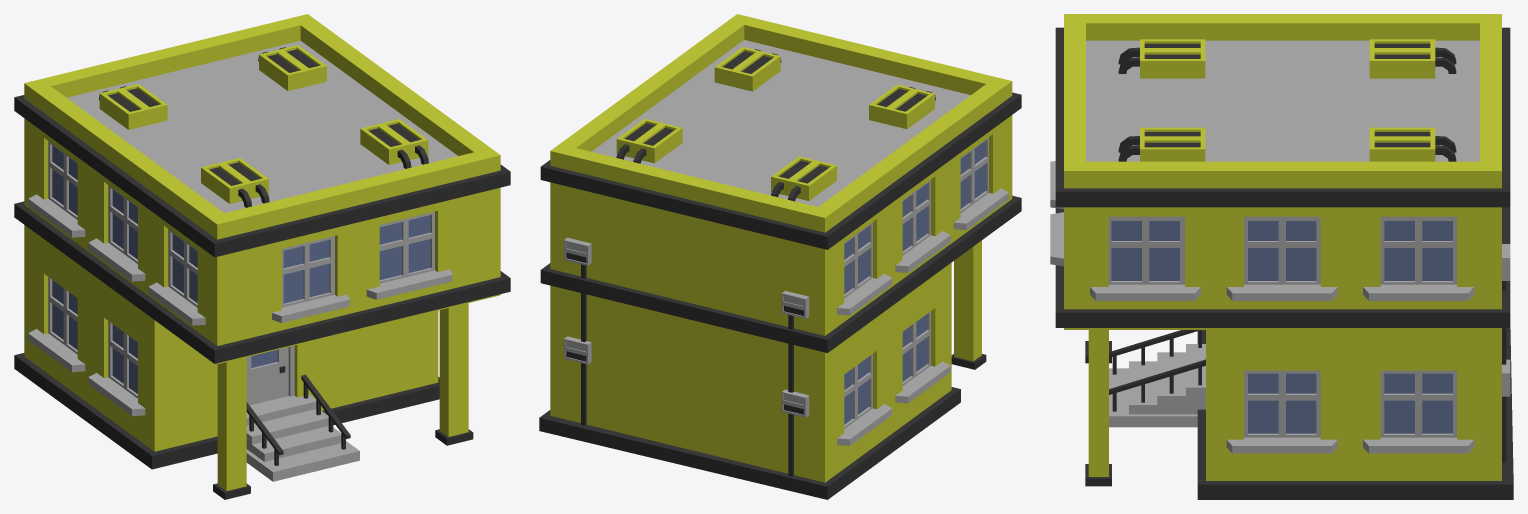
File: Building4_4.fbx
3 renders of one model, left to right at view 1: azimuth 30°, elevation 25°; view 2: azimuth 150°, elevation 25°; view 3: azimuth 270°, elevation 25°, orthographic. The views are drawn at different scales.
Visible parts, largest first — view 1: Building4_3; view 2: Building4_3; view 3: Building4_3.
Part boxes in pixels (left/top/right/bottom): Building4_3: left=14, top=14, right=510, bottom=499; Building4_3: left=539, top=14, right=1021, bottom=499; Building4_3: left=1050, top=14, right=1513, bottom=499.
Size of the model in its own units: 443 by 398 by 513.
